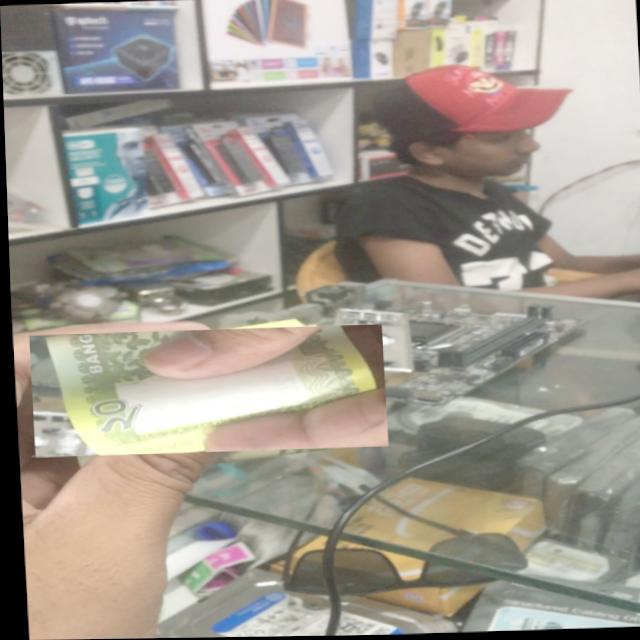Taka: (26, 325, 385, 457)
